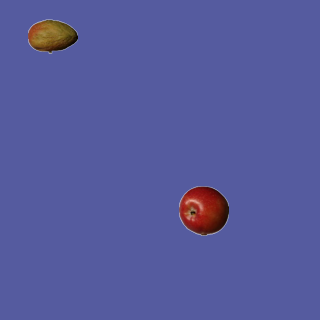Apple Braeburn: (178, 185, 228, 235)
Papaya: (27, 11, 77, 61)
